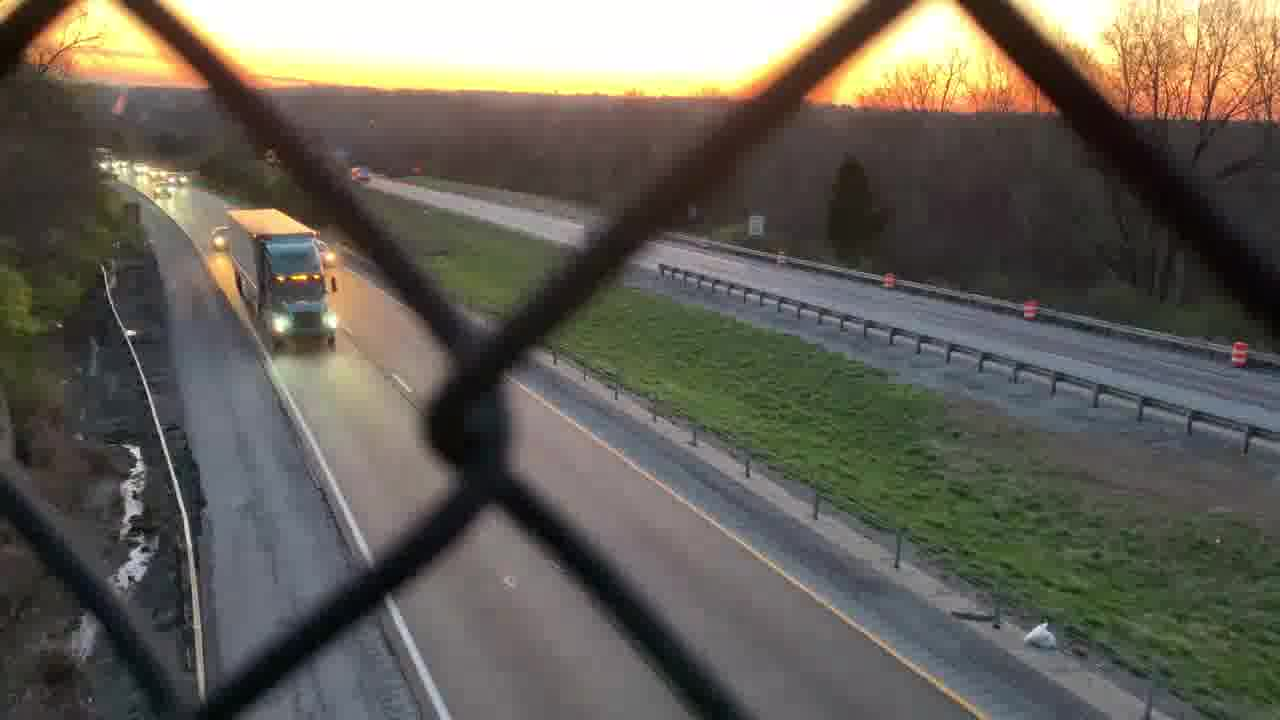heavyTruck: (222, 205, 339, 348)
